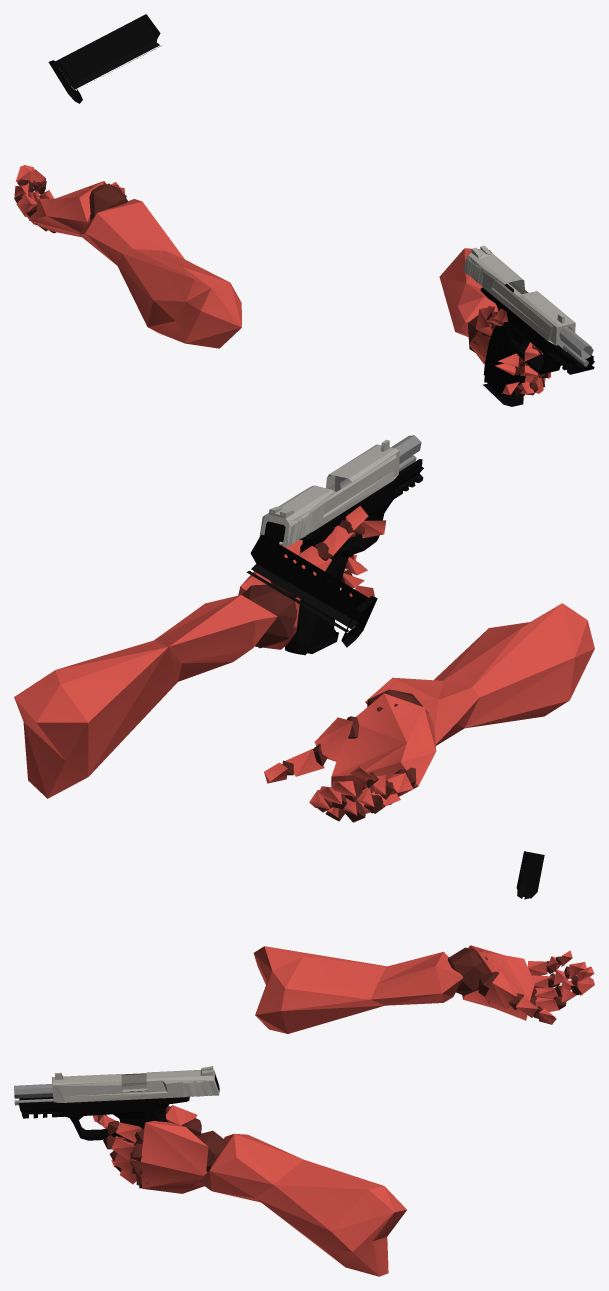
File: M&P9reloadNormal1lowP_000112.obj
3 renders of one model, top to bottom at view 1: azimuth 30°, elevation 25°; view 2: azimuth 150°, elevation 25°; view 3: azimuth 270°, elevation 25°, orthographic. The views are drawn at different scales.
Visible parts, largest first — view 1: Beta_Surface.001_Beta_Surface.002, triger_平面.001, magazine.002_平面.005, slide_平面.002, Beta_Joints.001_Beta_Joints.002; view 2: Beta_Surface.001_Beta_Surface.002, slide_平面.002, magazine.002_平面.005, triger_平面.001, Beta_Joints.001_Beta_Joints.002; view 3: Beta_Surface.001_Beta_Surface.002, slide_平面.002, triger_平面.001, Beta_Joints.001_Beta_Joints.002, magazine.002_平面.005.
Part boxes in pixels (box(x1,y1,x2,y2)): Beta_Surface.001_Beta_Surface.002: box(14, 165, 550, 395); triger_平面.001: box(480, 283, 594, 400); magazine.002_平面.005: box(48, 14, 161, 103); slide_平面.002: box(463, 245, 575, 351); Beta_Joints.001_Beta_Joints.002: box(14, 179, 548, 396); Beta_Surface.001_Beta_Surface.002: box(14, 505, 594, 817); slide_平面.002: box(259, 439, 399, 547); magazine.002_平面.005: box(246, 534, 377, 647); triger_平面.001: box(285, 435, 423, 655); Beta_Joints.001_Beta_Joints.002: box(242, 520, 428, 822); Beta_Surface.001_Beta_Surface.002: box(93, 945, 594, 1276); slide_平面.002: box(52, 1066, 219, 1102); triger_平面.001: box(14, 1084, 189, 1143); Beta_Joints.001_Beta_Joints.002: box(97, 947, 581, 1185); magazine.002_平面.005: box(516, 851, 544, 899).
Size of the model in its own units: 83.9 by 64.15 by 114.
